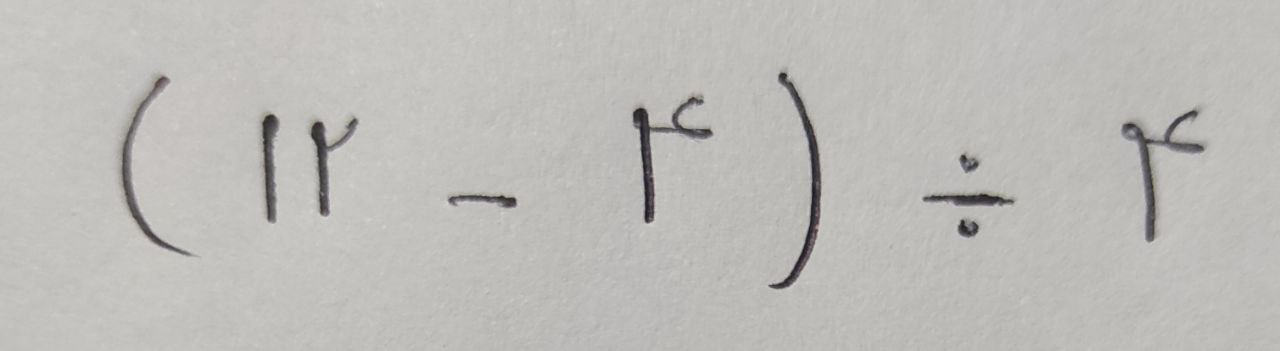character: (122, 75, 202, 258), (766, 73, 823, 291), (1120, 108, 1206, 243), (632, 96, 715, 224), (920, 153, 1017, 239), (310, 116, 360, 218), (261, 112, 281, 224), (447, 193, 520, 210)
